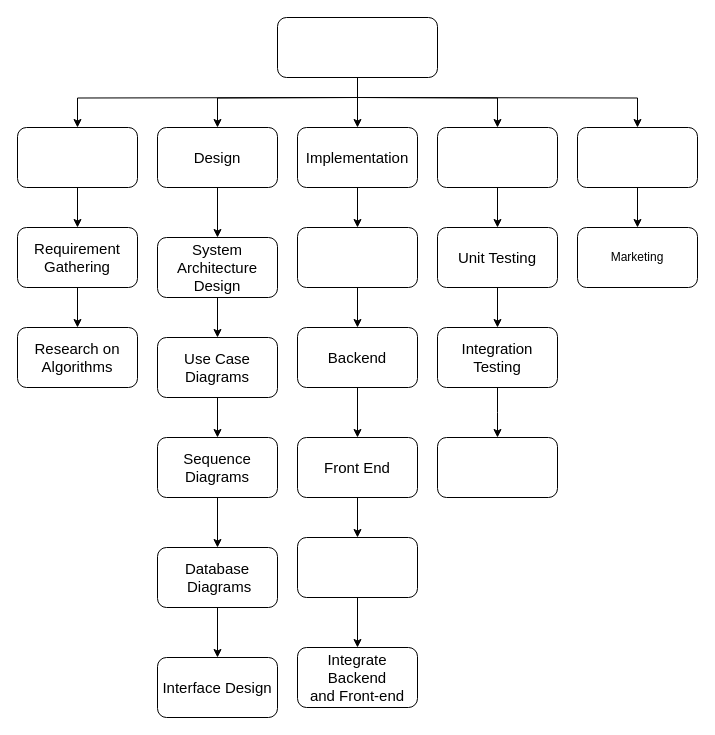
Some shapes in this 715 by 735 pixel diagram are drawn without their labels. Here are the shapes that lost their labels. From the top down, the centre of each, then its label:
(x=357, y=47): Smart Calorie Monitoring
(x=77, y=157): Research
(x=497, y=157): Testing
(x=637, y=157): Deployment
(x=357, y=257): Train Image Model
(x=497, y=467): System Testing
(x=357, y=567): API Connectivity
